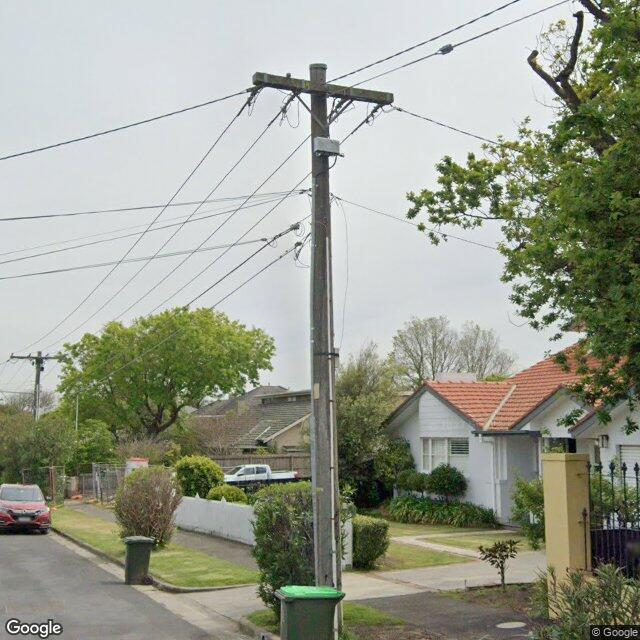crossarm: (238, 71, 394, 125), (6, 353, 64, 364)
timber-pole: (310, 63, 343, 640), (32, 350, 42, 420)
